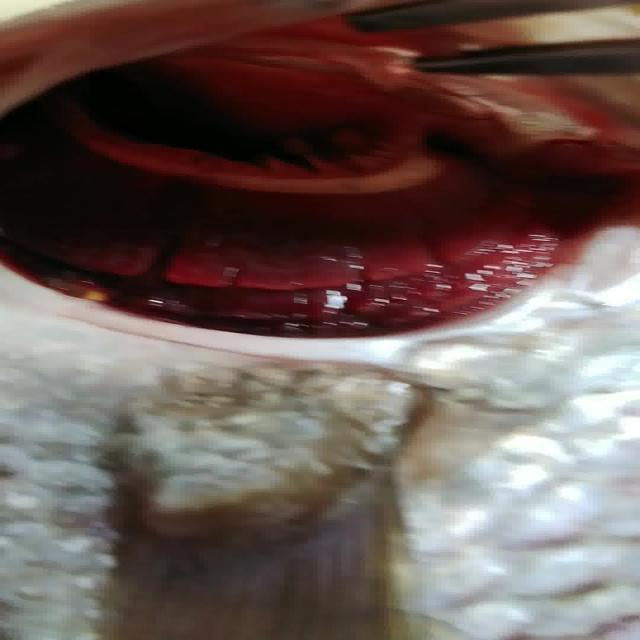Fresh: (19, 43, 640, 353)
